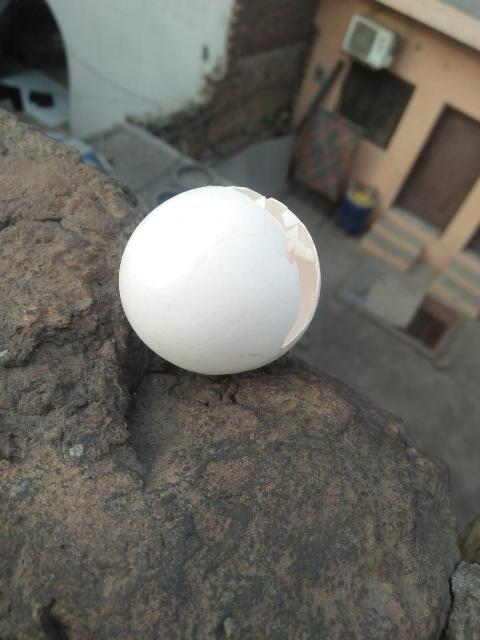Roto: (117, 184, 320, 376)
